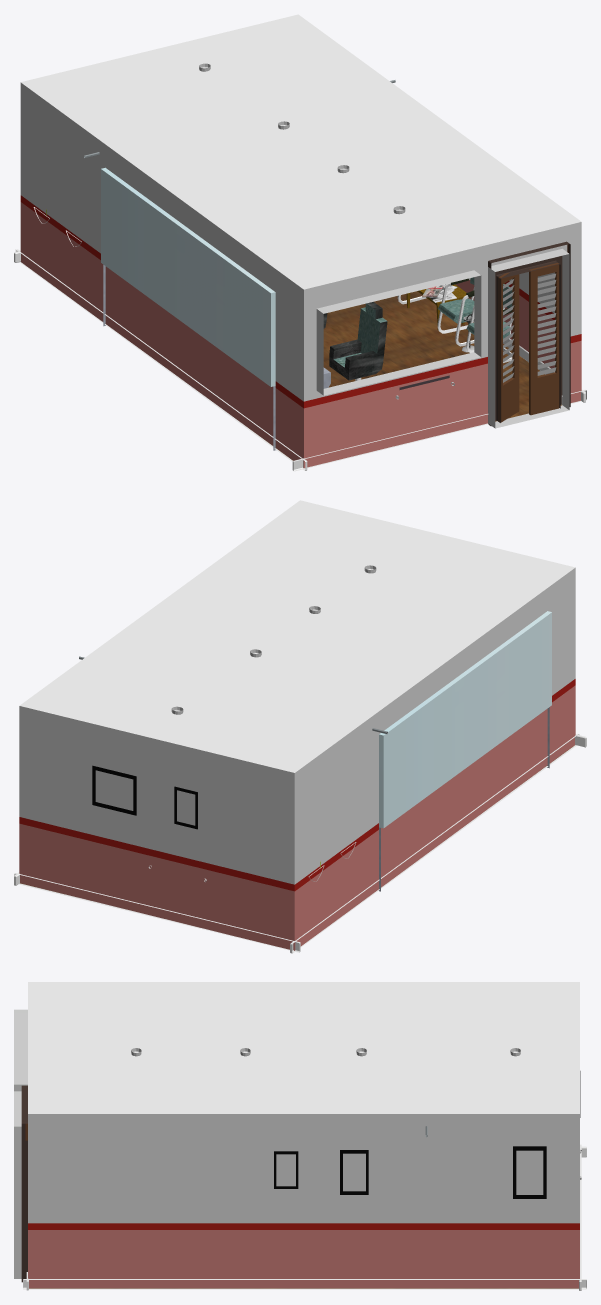
Rendered from salon de belleza.fbx.
The picture shows the model from 3 angles, top to bottom: view 1: azimuth 30°, elevation 25°; view 2: azimuth 150°, elevation 25°; view 3: azimuth 270°, elevation 25°; orthographic projection. The views are drawn at different scales.
Parts seen in each view (by area): view 1: Salon_OLD_EDIT; view 2: Salon_OLD_EDIT; view 3: Salon_OLD_EDIT.
Boxes of the visible parts, x1,y1,x2,y2 form: Salon_OLD_EDIT: (14,14,586,471); Salon_OLD_EDIT: (14,500,586,953); Salon_OLD_EDIT: (14,982,586,1290).
Bounding box in the file's own units: 29415 × 16848 × 48199.
